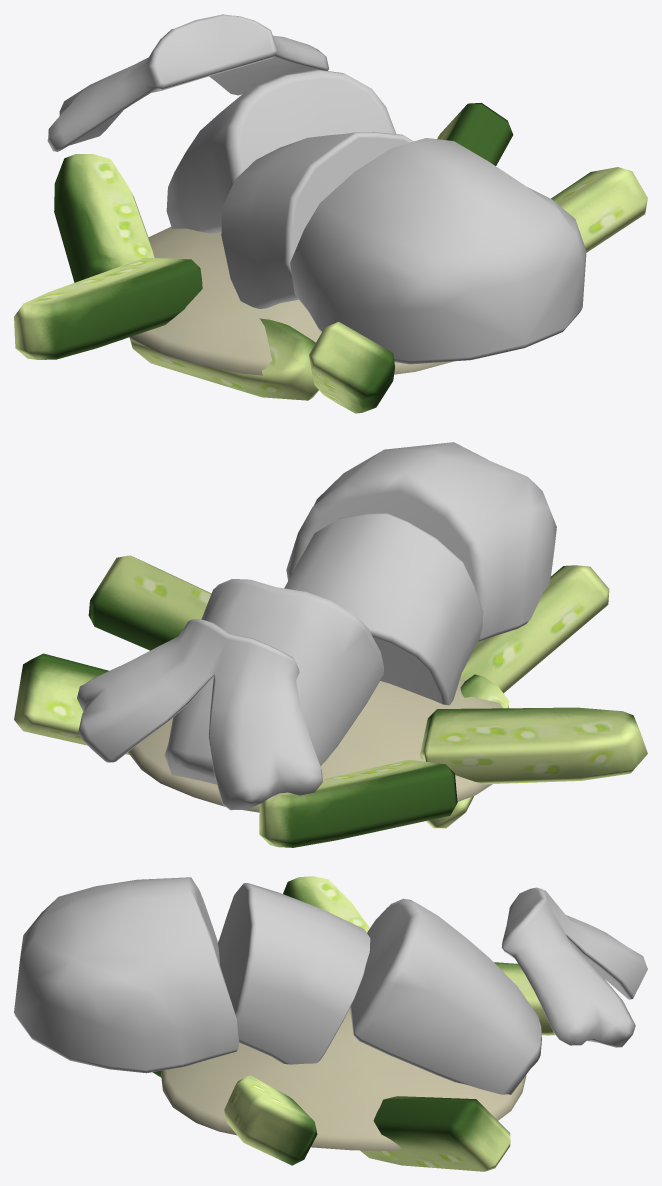
File: m_plated_sushi_wrong_03.fbx
The picture shows the model from 3 angles, top to bottom: view 1: azimuth 30°, elevation 25°; view 2: azimuth 150°, elevation 25°; view 3: azimuth 270°, elevation 25°; orthographic projection. The views are drawn at different scales.
Visible parts, largest first — view 1: m_plated_sushi_wrong_03_1, m_plated_sushi_wrong_03_2, m_plated_sushi_wrong_03_0; view 2: m_plated_sushi_wrong_03_1, m_plated_sushi_wrong_03_2, m_plated_sushi_wrong_03_0; view 3: m_plated_sushi_wrong_03_1, m_plated_sushi_wrong_03_0, m_plated_sushi_wrong_03_2.
Boxes of the visible parts, x1,y1,x2,y2 form: m_plated_sushi_wrong_03_1: (47, 14, 586, 364); m_plated_sushi_wrong_03_2: (14, 102, 647, 413); m_plated_sushi_wrong_03_0: (129, 227, 453, 375); m_plated_sushi_wrong_03_1: (77, 442, 556, 810); m_plated_sushi_wrong_03_2: (14, 555, 647, 847); m_plated_sushi_wrong_03_0: (128, 678, 502, 812); m_plated_sushi_wrong_03_1: (14, 877, 647, 1094); m_plated_sushi_wrong_03_0: (161, 1008, 526, 1150); m_plated_sushi_wrong_03_2: (153, 876, 555, 1171).
Size of the model in its own units: 0.9563 by 0.4068 by 0.9916.
